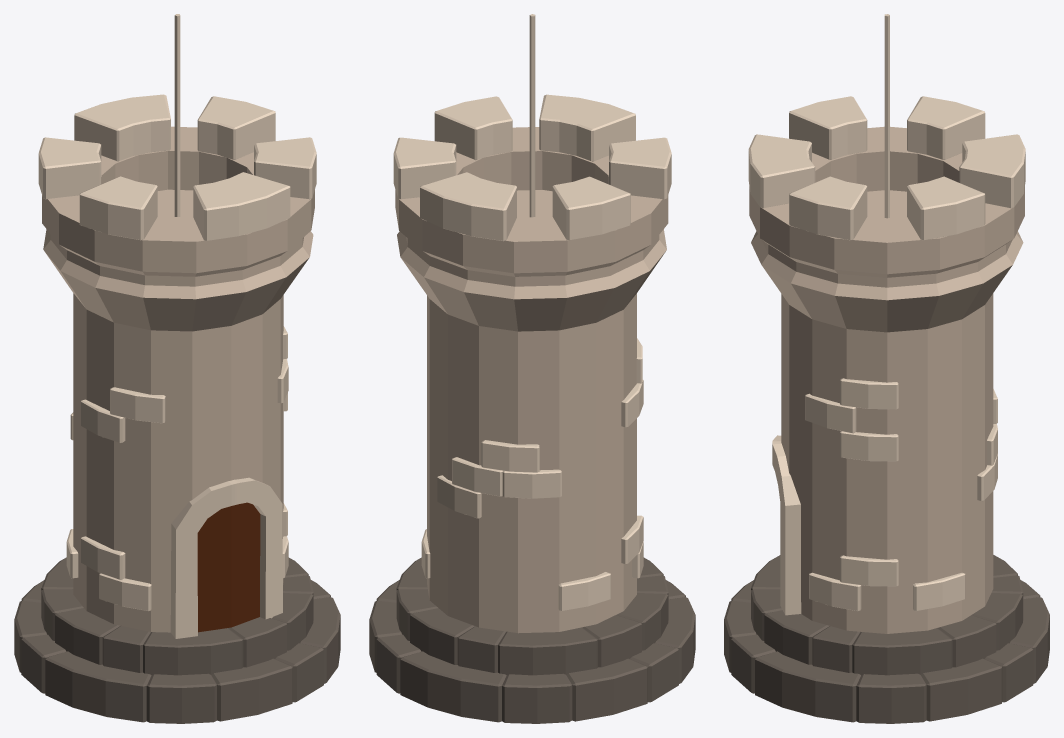
Rendered from Tower_Archer001.fbx.
3 views of the same model, side by side, from view 1: azimuth 30°, elevation 25°; view 2: azimuth 150°, elevation 25°; view 3: azimuth 270°, elevation 25° (orthographic).
Parts seen in each view (by area): view 1: Cube.032; view 2: Cube.032; view 3: Cube.032.
Part boxes in pixels (x1=…): Cube.032: x1=14, y1=14, x2=340, y2=723; Cube.032: x1=369, y1=14, x2=695, y2=723; Cube.032: x1=724, y1=14, x2=1049, y2=723.
Size of the model in its own units: 277 by 600 by 277.
